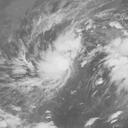cyclone: (37, 50, 72, 83)
